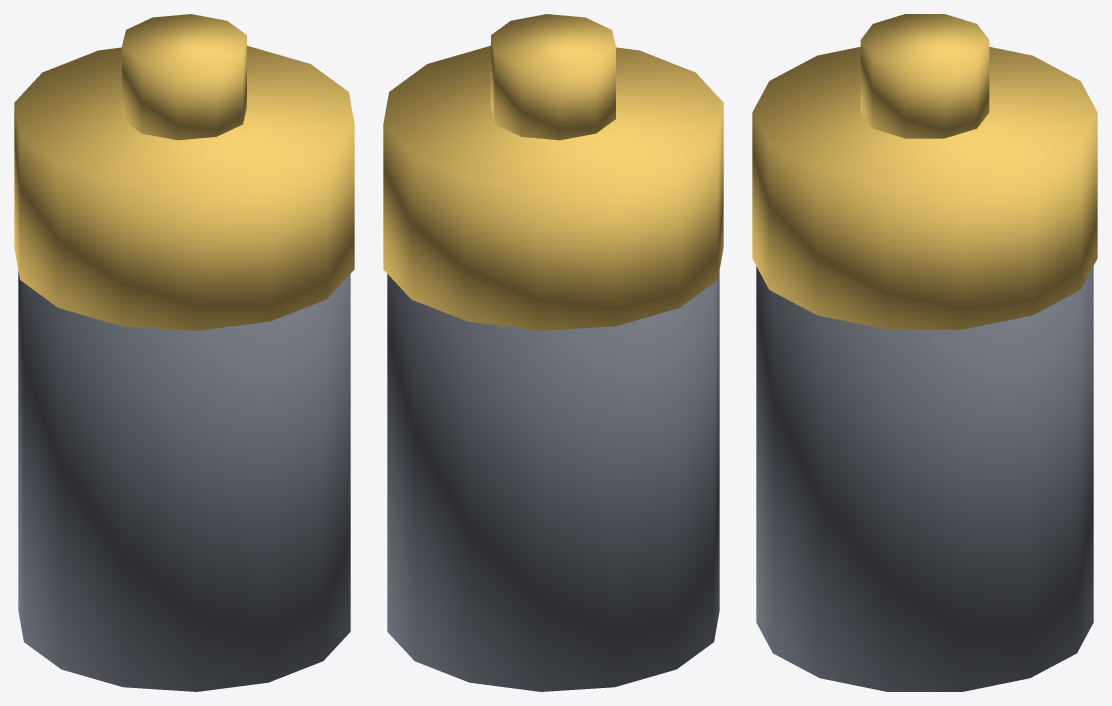
Rendered from item_battery.glb.
3 views of the same model, side by side, from view 1: azimuth 30°, elevation 25°; view 2: azimuth 150°, elevation 25°; view 3: azimuth 270°, elevation 25° (orthographic).
Parts seen in each view (by area): view 1: CellMain, CellBand, CellTerm; view 2: CellMain, CellBand, CellTerm; view 3: CellMain, CellBand, CellTerm.
Part boxes in pixels (box(x1,y1,x2,y2)): CellMain: box(18, 271, 350, 691); CellBand: box(14, 45, 354, 330); CellTerm: box(122, 14, 246, 140); CellMain: box(387, 271, 719, 691); CellBand: box(383, 45, 723, 330); CellTerm: box(491, 14, 615, 140); CellMain: box(756, 266, 1093, 691); CellBand: box(752, 47, 1097, 329); CellTerm: box(860, 14, 989, 138).
Bounding box in the file's own units: 0.0838 × 0.16 × 0.086.
